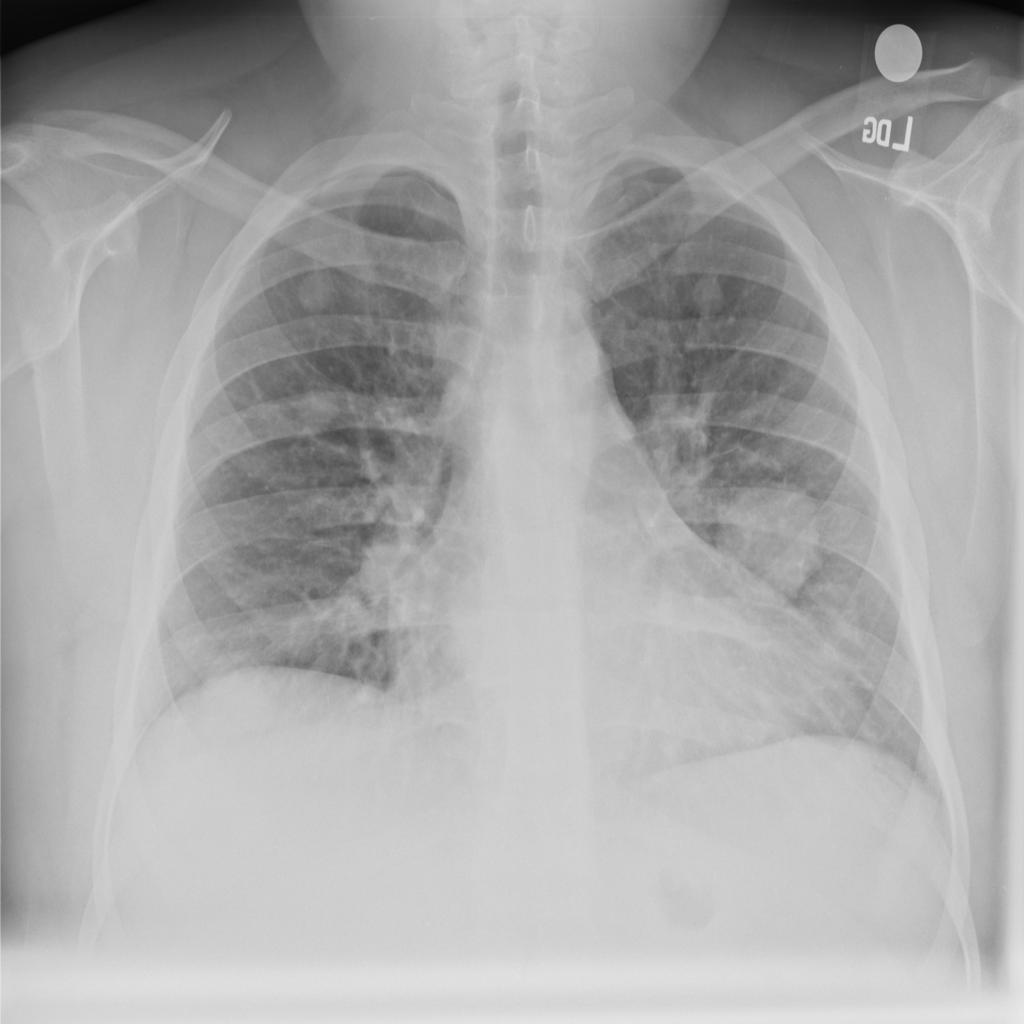nodule: (696, 457, 838, 633), (708, 695, 791, 765), (282, 371, 353, 444), (288, 254, 351, 324), (686, 268, 736, 324)
